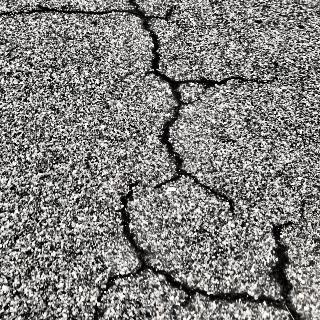crack: (263, 224, 315, 320), (159, 86, 202, 189), (117, 183, 154, 275), (137, 21, 179, 88), (0, 4, 174, 20), (173, 287, 270, 307), (163, 73, 270, 89), (93, 275, 117, 318), (201, 186, 236, 212), (151, 268, 192, 287)
